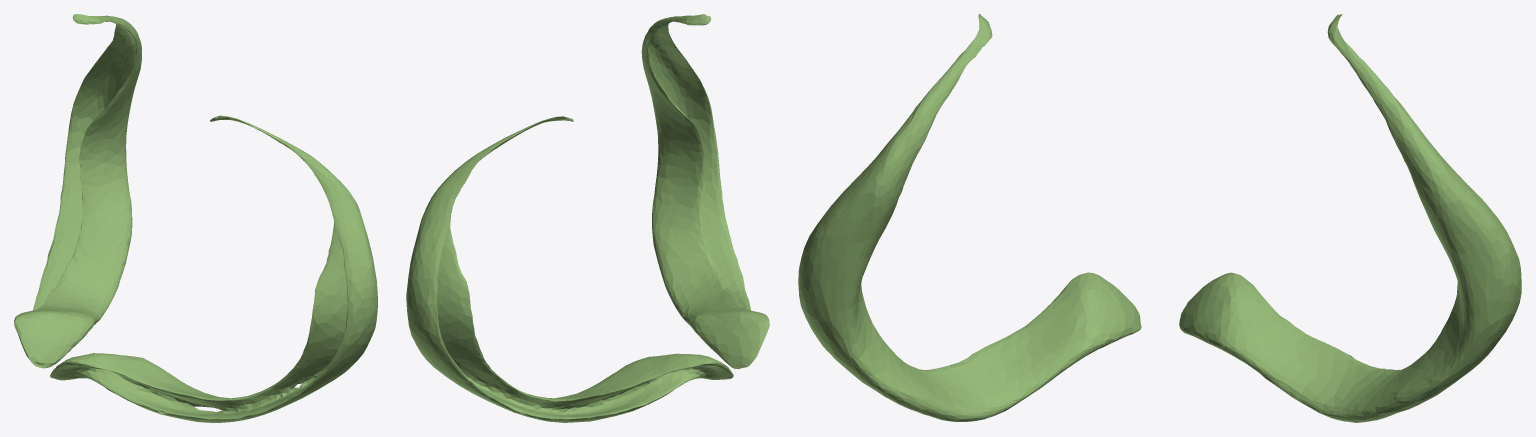
The picture shows the model from 3 angles, left to right: view 1: azimuth 30°, elevation 25°; view 2: azimuth 150°, elevation 25°; view 3: azimuth 270°, elevation 25°; orthographic projection. The views are drawn at different scales.
Visible parts, largest first — view 1: 632.obj; view 2: 632.obj; view 3: 632.obj.
Boxes of the visible parts, left/top/right/bottom form: 632.obj: left=14, top=14, right=377, bottom=422; 632.obj: left=406, top=14, right=769, bottom=422; 632.obj: left=798, top=14, right=1521, bottom=422.
Size of the model in its own units: 2915 by 3971 by 6654.
